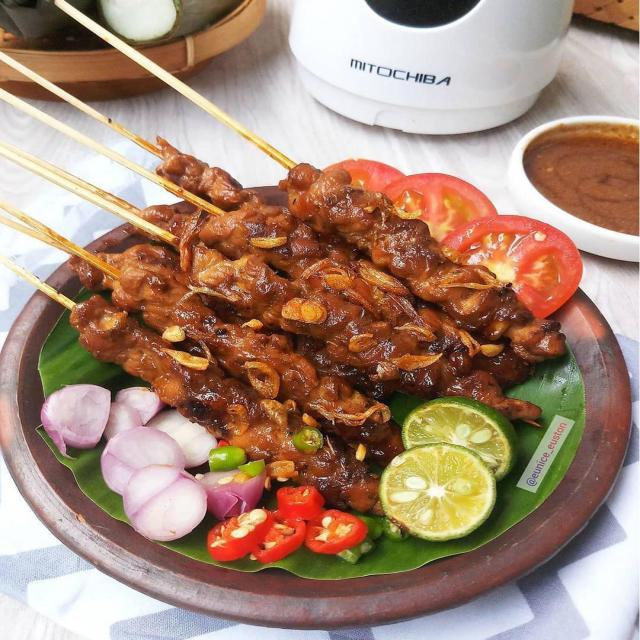Sate: (0, 18, 478, 433)
